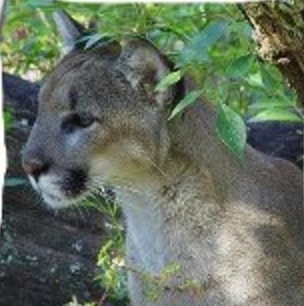Mountain Lion: (18, 10, 301, 303)
